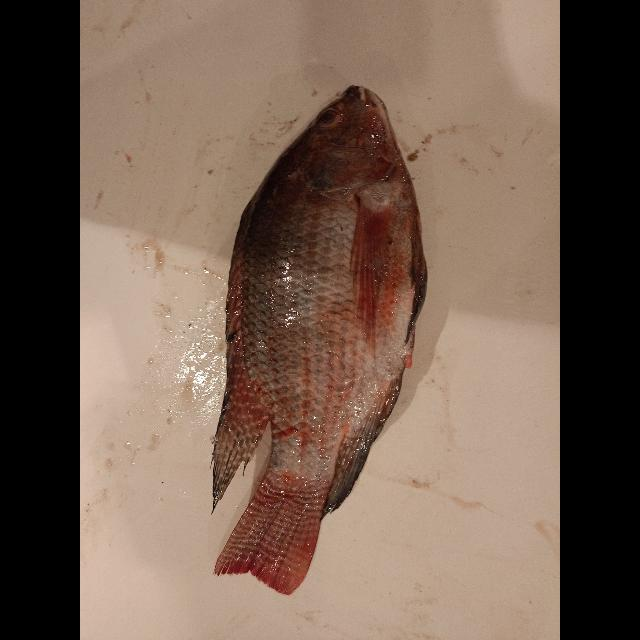Tilapia: (215, 83, 429, 593)
